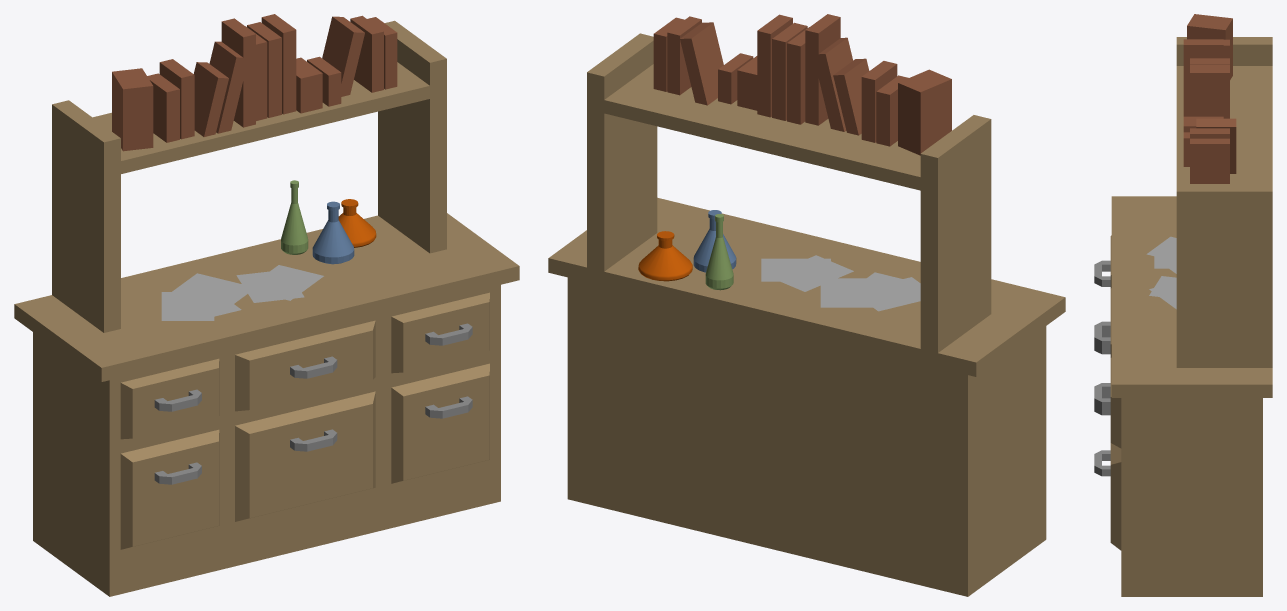
Rendered from desk.fbx.
3 renders of one model, left to right at view 1: azimuth 30°, elevation 25°; view 2: azimuth 150°, elevation 25°; view 3: azimuth 270°, elevation 25°, orthographic. The views are drawn at different scales.
Visible parts, largest first — view 1: desk; view 2: desk; view 3: desk.
Boxes of the visible parts, left/top/right/bottom form: desk: left=14, top=14, right=519, bottom=596; desk: left=548, top=14, right=1065, bottom=596; desk: left=1094, top=14, right=1272, bottom=596.
Size of the model in its own units: 7.13 by 8.05 by 2.85.
